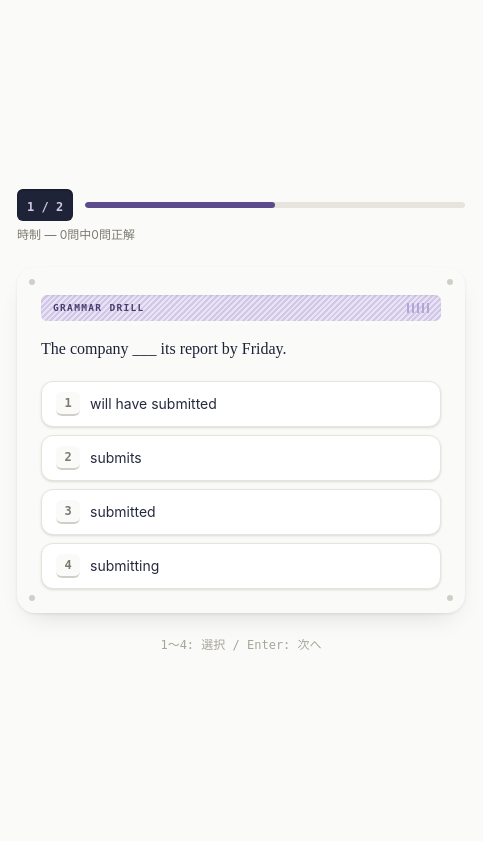
Scenario: GrammarDrill › advances to the next question via Ctrl+Enter while the tutor textarea is focused (26章)
Step 1. Click the button "1 will have submitted" → (153, 404), box [41,381,441,427]
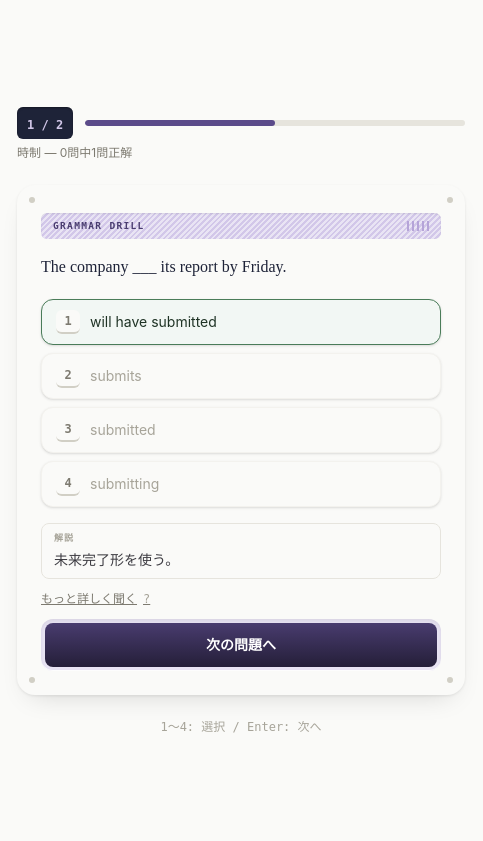
Step 2. Click the button "もっと詳しく聞く ?" → (96, 599), box [41,591,150,607]
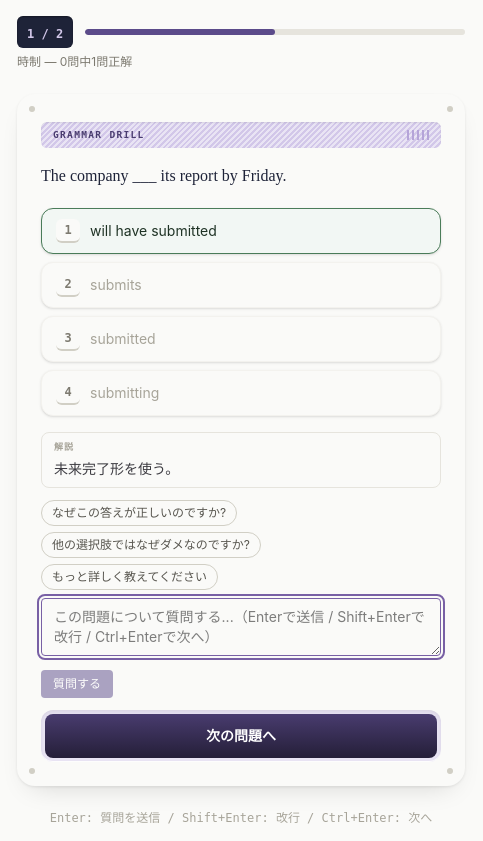
Step 3. Type "なぜ現在完了ではダメですか?" into the text box with placeholder "この問題について質問する...（Enterで送信 / Shift+Enterで改行 / Ctrl+Enterで次へ）" → (241, 627), box [41,598,441,656]
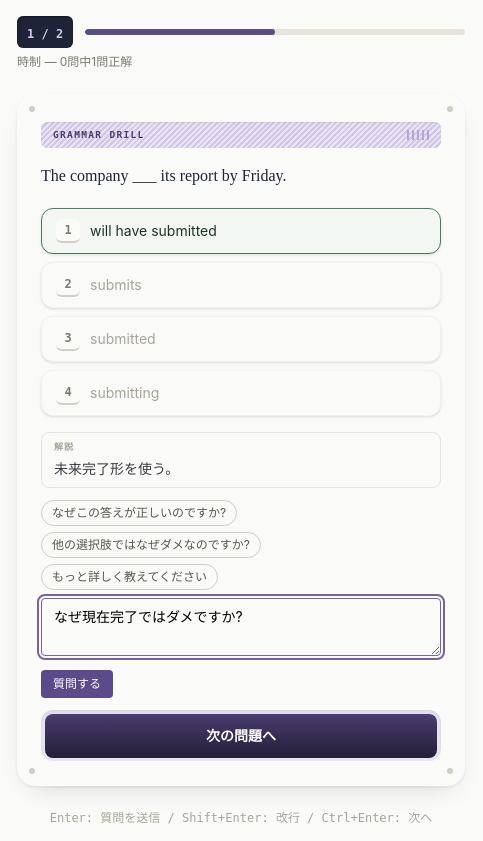
Step 4. Press Enter in the text box with placeholder "この問題について質問する...（Enterで送信 / Shift+Enterで改行 / Ctrl+Enterで次へ）", box [41,598,441,656]
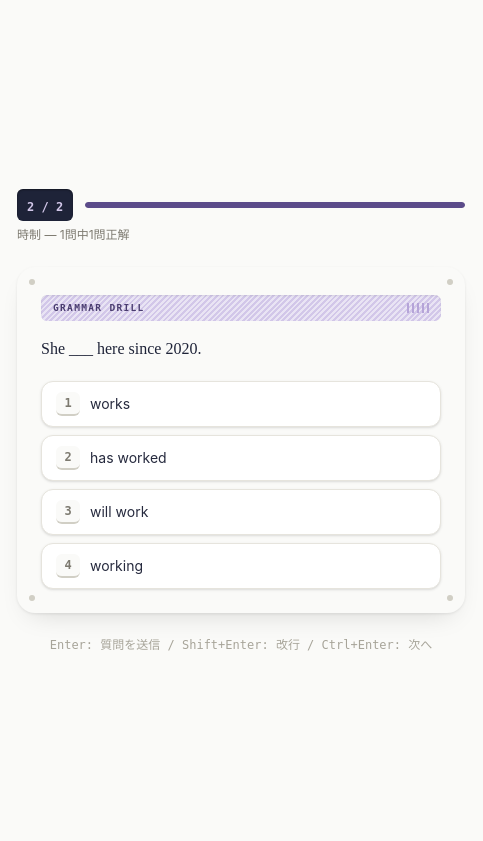
Expected: the text "She ___ here since 2020." is shown, [41,340,201,357]
